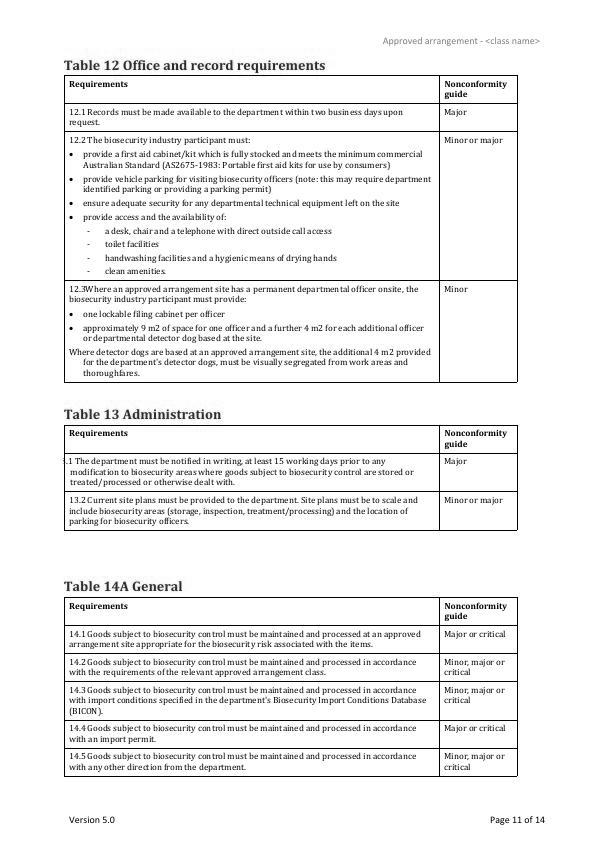table: (62, 74, 522, 388), (62, 594, 520, 781), (62, 423, 524, 536)
text: (62, 57, 330, 72), (60, 405, 223, 420), (61, 580, 184, 595)
